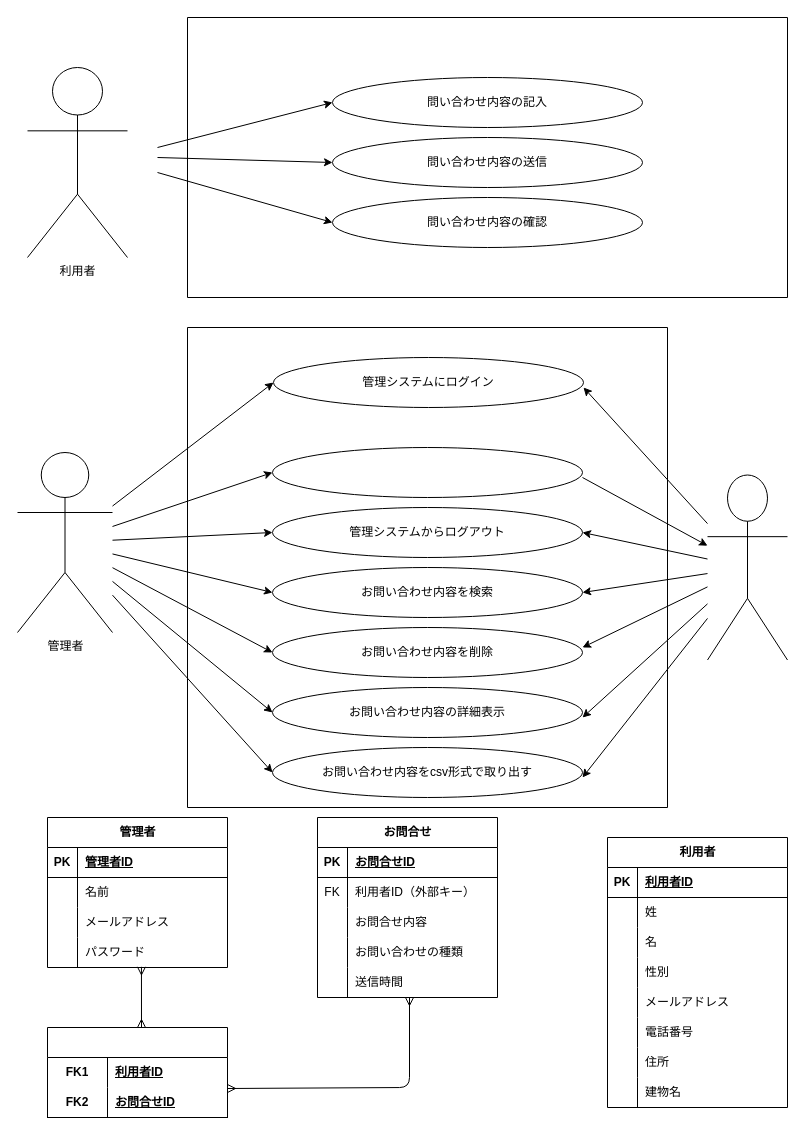
Image size: 805x1135. Some labels were removed from this diagram. The shapes that lost their labels are listed below. From the top down, each one's box as (x1, y1, x2, y2) in pixels, then its label:
(186, 16, 788, 298): 問い合わせ送信システム
(272, 446, 582, 498): 新規ユーザーの作成・登録
(186, 326, 668, 808): 問い合わせ管理システム
(706, 474, 788, 660): 新規管理者
(46, 1026, 228, 1118): 中間テーブル
